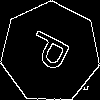P: (25, 27, 80, 77)
